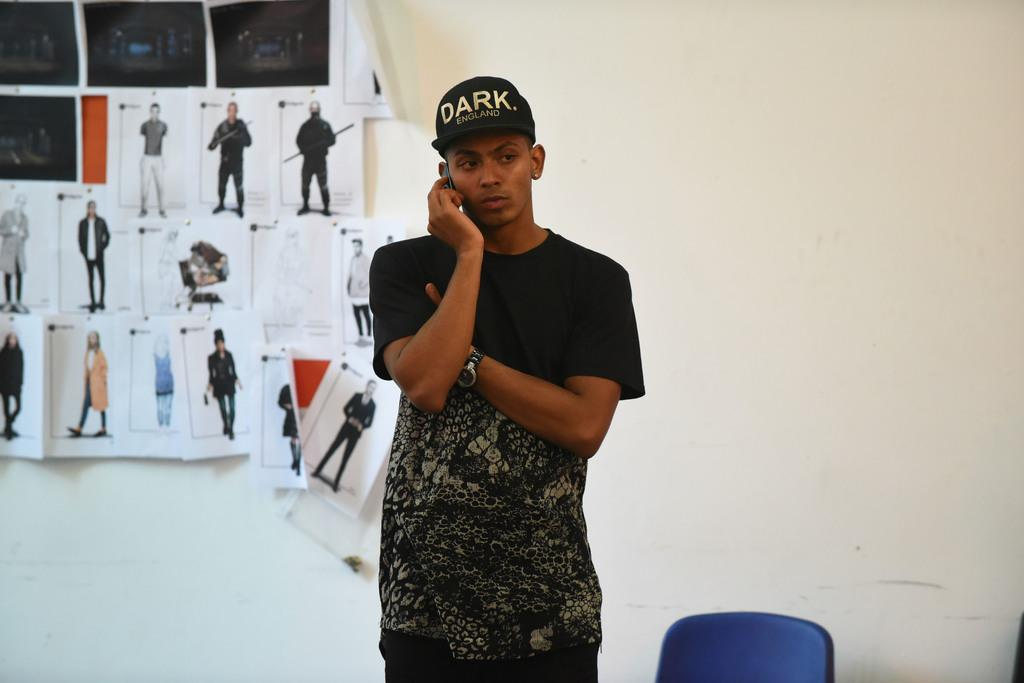Hat: (430, 76, 535, 162)
